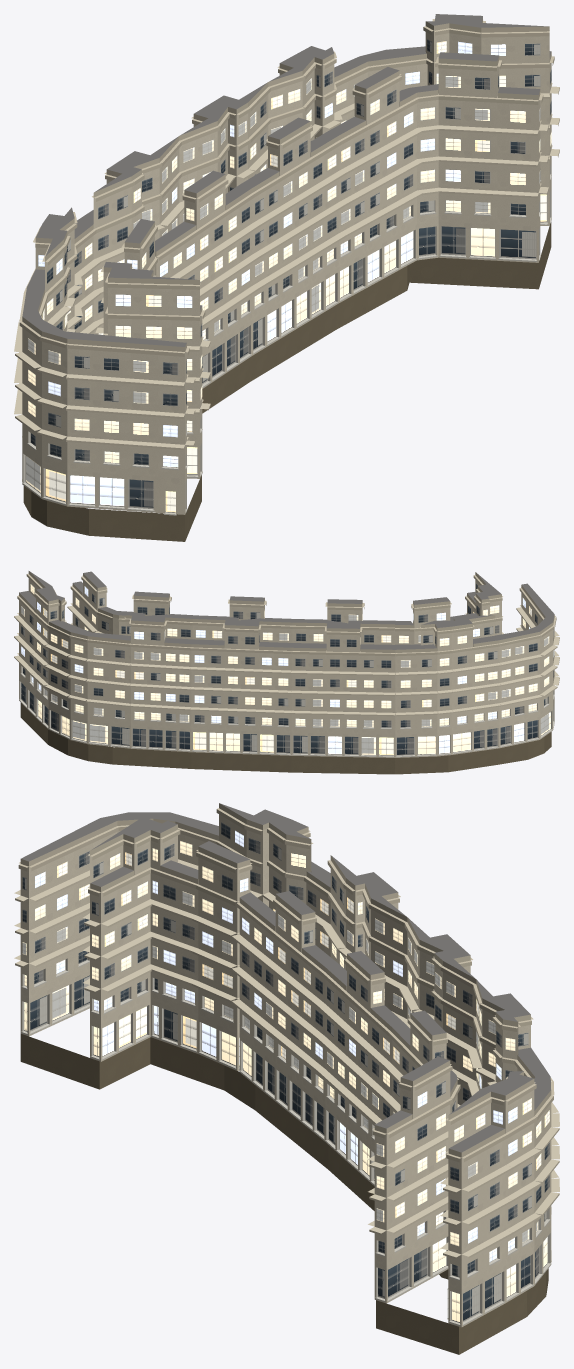
The model's file is z3R2_brau_n.glb.
The picture shows the model from 3 angles, top to bottom: view 1: azimuth 30°, elevation 25°; view 2: azimuth 150°, elevation 25°; view 3: azimuth 270°, elevation 25°; orthographic projection. The views are drawn at different scales.
Parts seen in each view (by area): view 1: z3R2_brau_n; view 2: z3R2_brau_n; view 3: z3R2_brau_n.
Part boxes in pixels (left/top/right/bottom): z3R2_brau_n: left=14, top=14, right=559, bottom=541; z3R2_brau_n: left=14, top=571, right=559, bottom=774; z3R2_brau_n: left=14, top=803, right=559, bottom=1354.
Bounding box in the file's own units: 79.11 × 25.08 × 52.6.
Materials: 3 (3 with a texture image).
